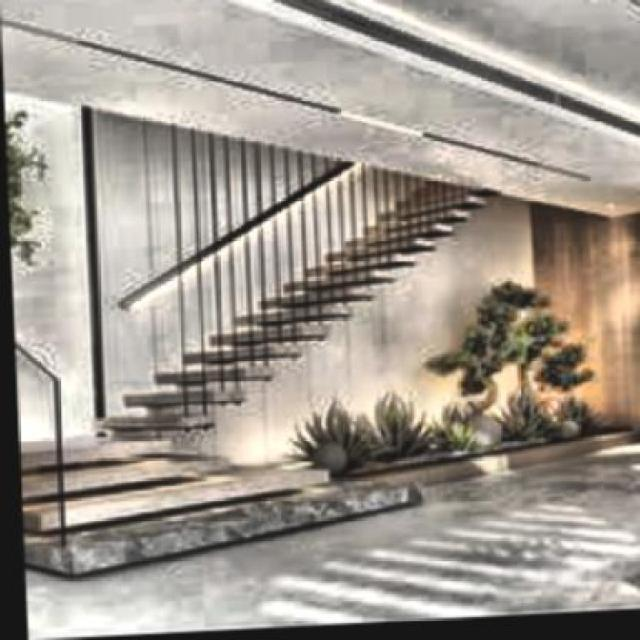stair: (117, 177, 508, 431), (15, 434, 414, 574)
